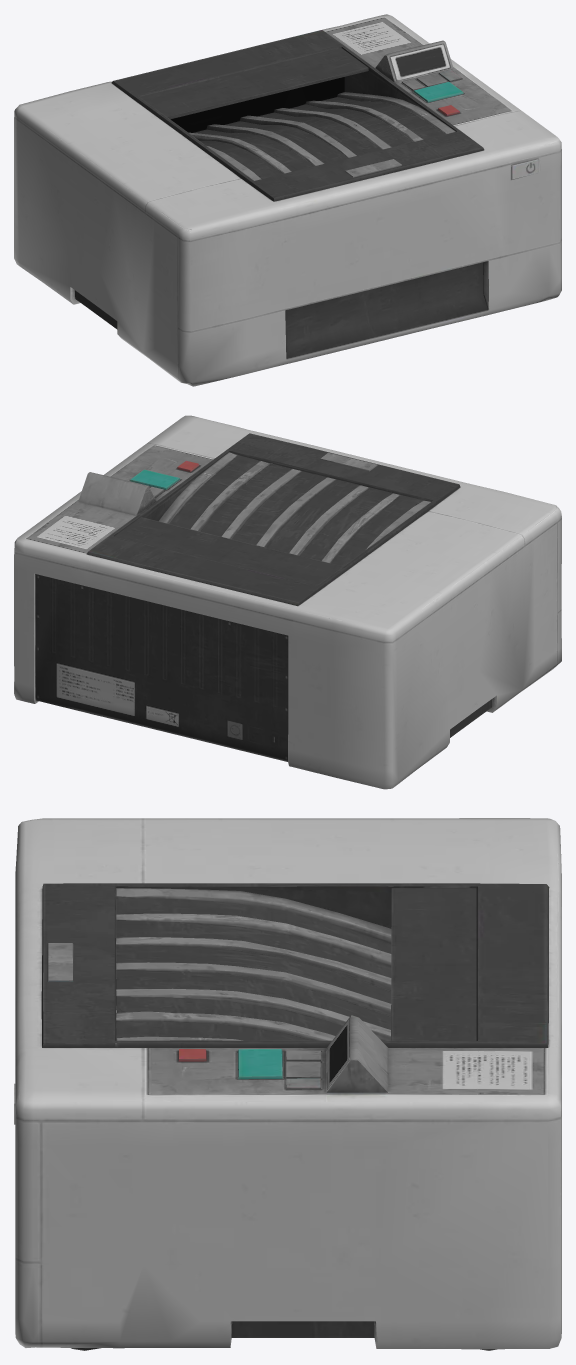
The model's file is printer.glb.
3 renders of one model, top to bottom at view 1: azimuth 30°, elevation 25°; view 2: azimuth 150°, elevation 25°; view 3: azimuth 270°, elevation 25°, orthographic. The views are drawn at different scales.
Visible parts, largest first — view 1: Object_2; view 2: Object_2; view 3: Object_2.
Boxes of the visible parts, x1=… form: Object_2: x1=14, y1=14, x2=561, y2=386; Object_2: x1=14, y1=415, x2=561, y2=789; Object_2: x1=14, y1=818, x2=561, y2=1350.
Size of the model in its own units: 200 by 95.57 by 160.
1 material, 1 textured.
